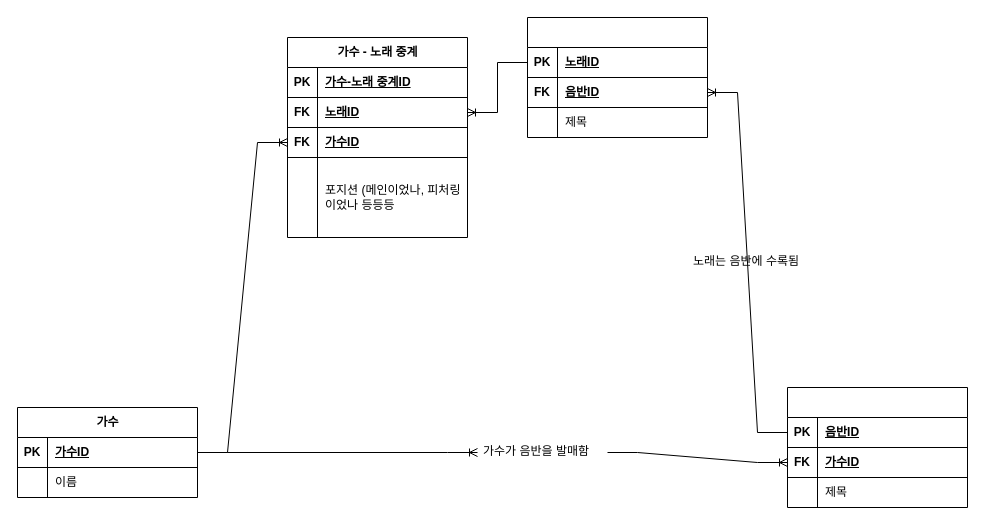
This 985x525 diagram has some shape labels left out. The box of each missing label's shape, as (x1, y1, x2, y2) in pixels:
노래: (526, 16, 708, 138)
음반: (786, 386, 968, 508)
